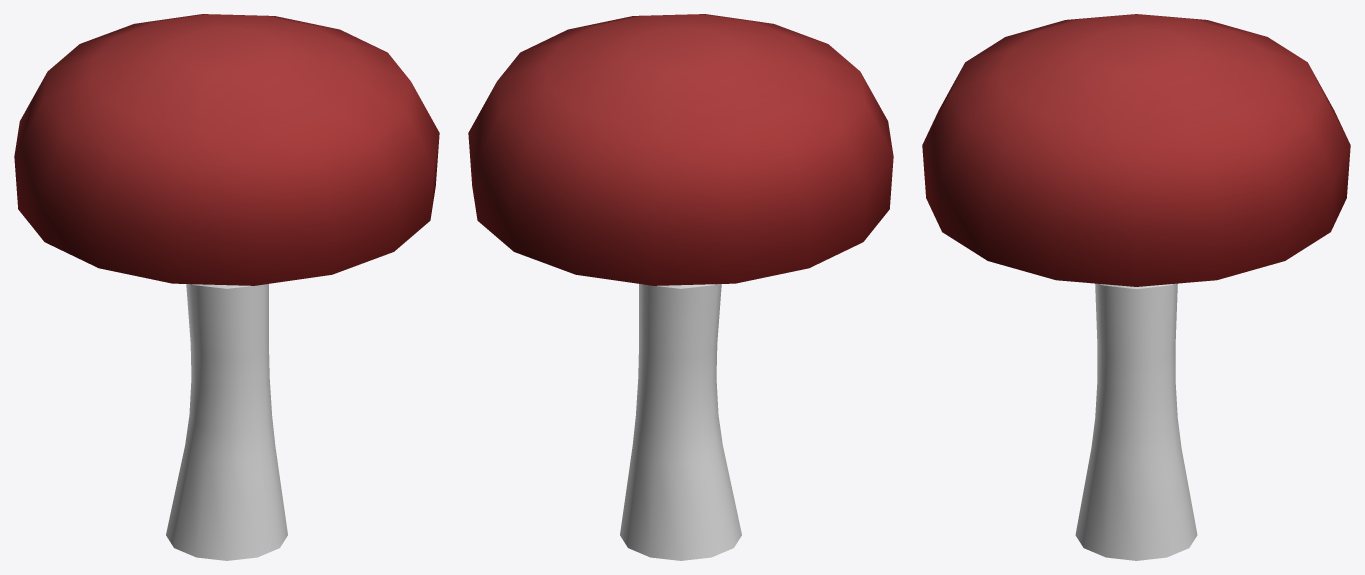
The model's file is Mushroom_01.fbx.
The picture shows the model from 3 angles, left to right: view 1: azimuth 30°, elevation 25°; view 2: azimuth 150°, elevation 25°; view 3: azimuth 270°, elevation 25°; orthographic projection.
Visible parts, largest first — view 1: Mushroom_01_LOD0; view 2: Mushroom_01_LOD0; view 3: Mushroom_01_LOD0.
Boxes of the visible parts, left/top/right/bottom form: Mushroom_01_LOD0: left=14, top=14, right=439, bottom=560; Mushroom_01_LOD0: left=468, top=14, right=893, bottom=560; Mushroom_01_LOD0: left=922, top=14, right=1350, bottom=560.
Size of what is drawn, in the model's own units: 0.1574 by 0.1957 by 0.1574.
